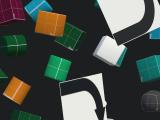Left: (97, 0, 160, 47)
Right: (59, 73, 107, 120)
